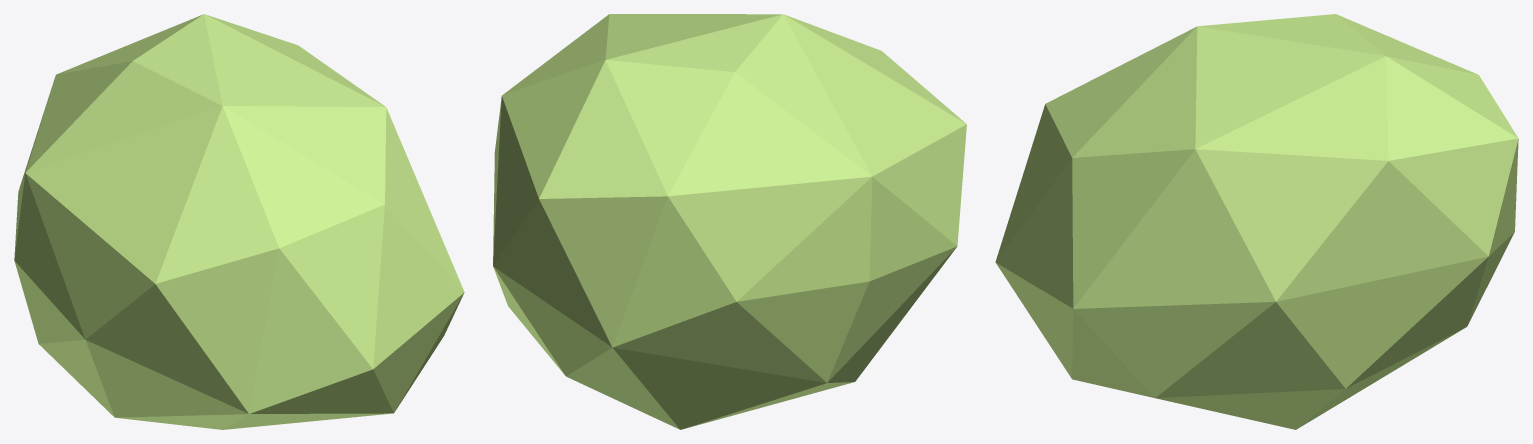
The model's file is Bush_g_m_04.fbx.
The picture shows the model from 3 angles, left to right: view 1: azimuth 30°, elevation 25°; view 2: azimuth 150°, elevation 25°; view 3: azimuth 270°, elevation 25°; orthographic projection. The views are drawn at different scales.
Visible parts, largest first — view 1: Bush_g_m_04; view 2: Bush_g_m_04; view 3: Bush_g_m_04.
Part boxes in pixels (bbox=[...]): Bush_g_m_04: bbox=[14, 14, 464, 429]; Bush_g_m_04: bbox=[493, 14, 966, 429]; Bush_g_m_04: bbox=[995, 14, 1518, 429].
Bounding box in the file's own units: 126 × 112 × 146.
